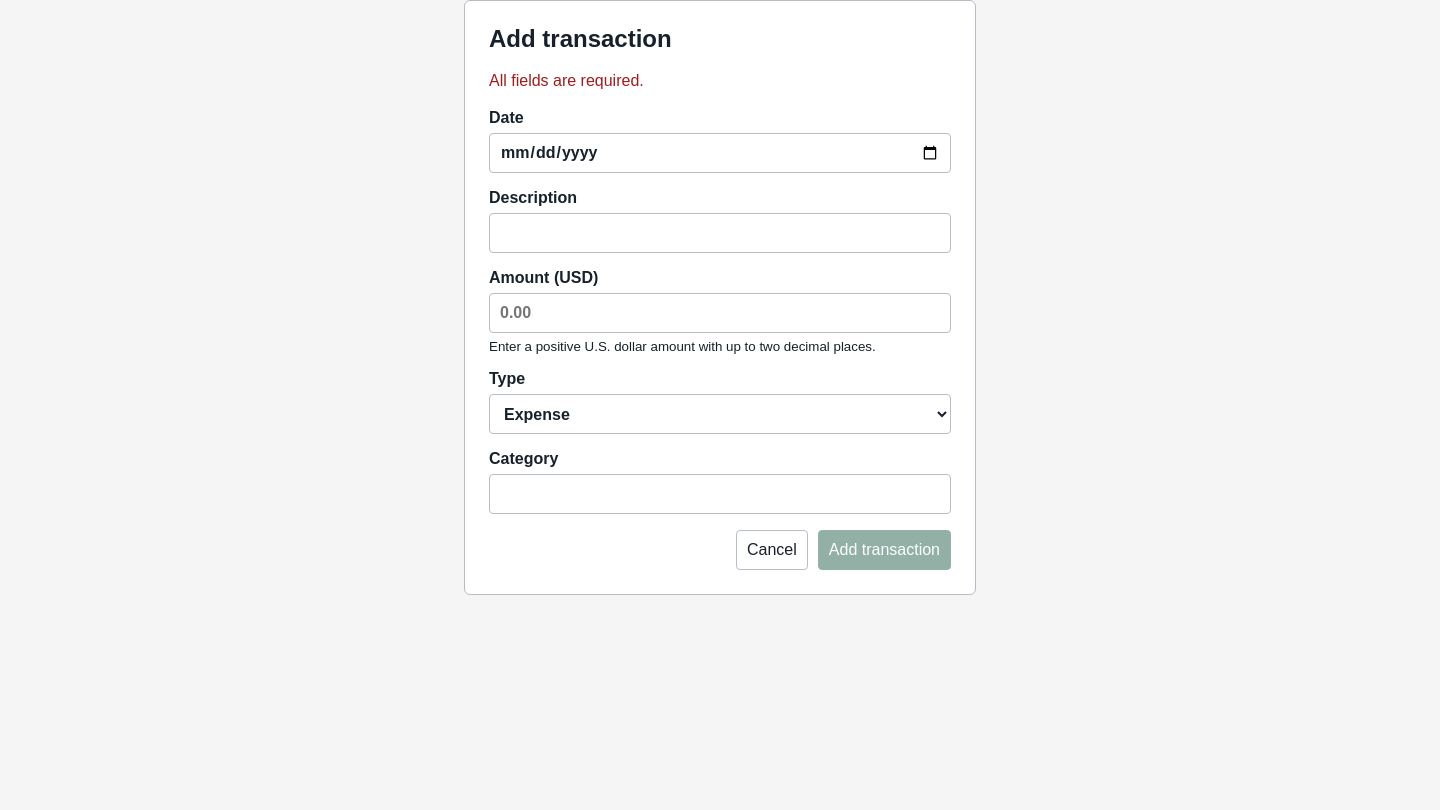
Test: TransactionFormDialog › requires all fields and validates USD amounts
Check: the message reads "All fields are required.", box x1=489 y1=72 x2=644 y2=89
Check: the button "Add transaction" is disabled, box x1=818 y1=530 x2=951 y2=570
Step 1. Type "234.432" into the field labelled "Amount (USD)" → [720, 313], box x1=489 y1=293 x2=951 y2=333
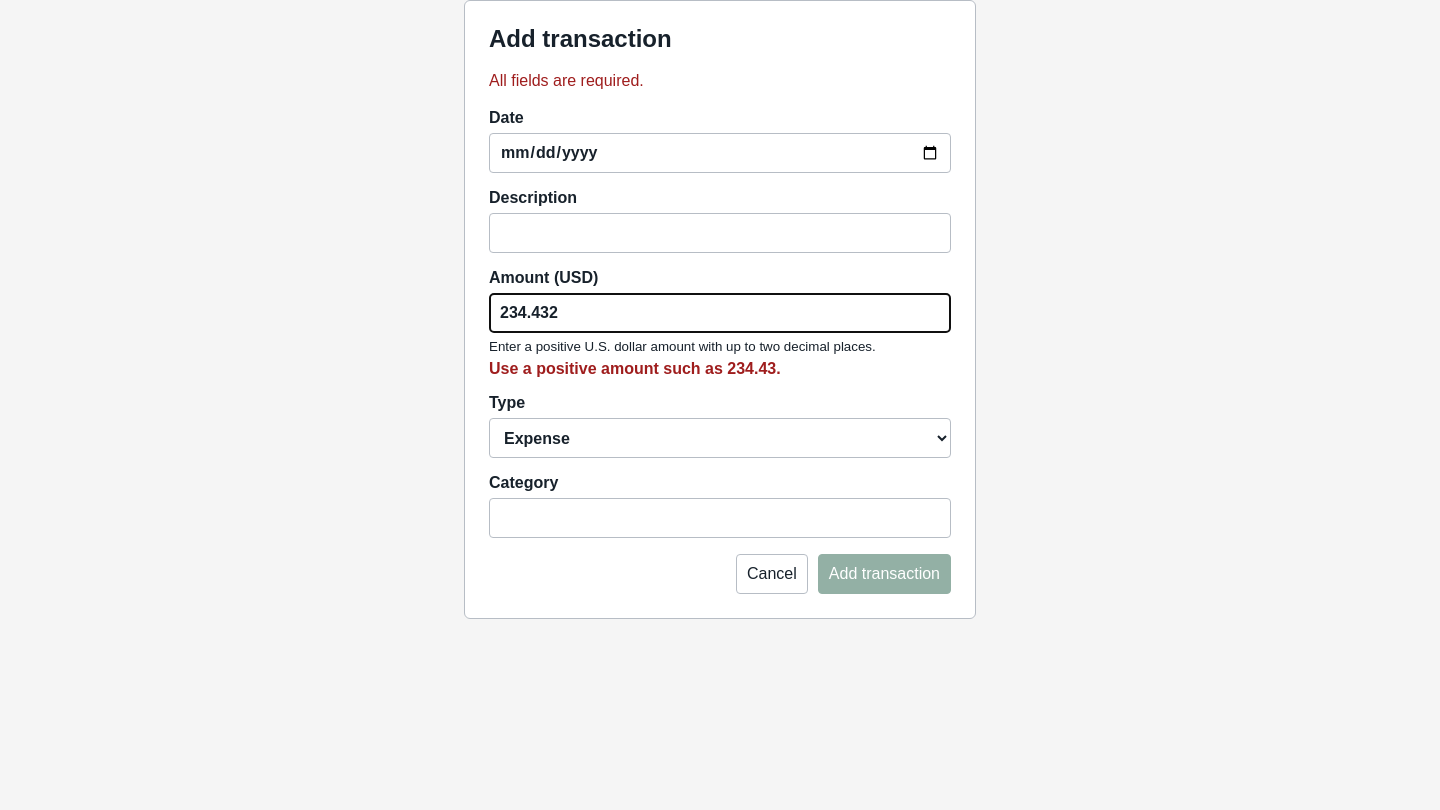
Check: the text "Use a positive amount such as 234.43." is shown, box x1=489 y1=360 x2=781 y2=377
